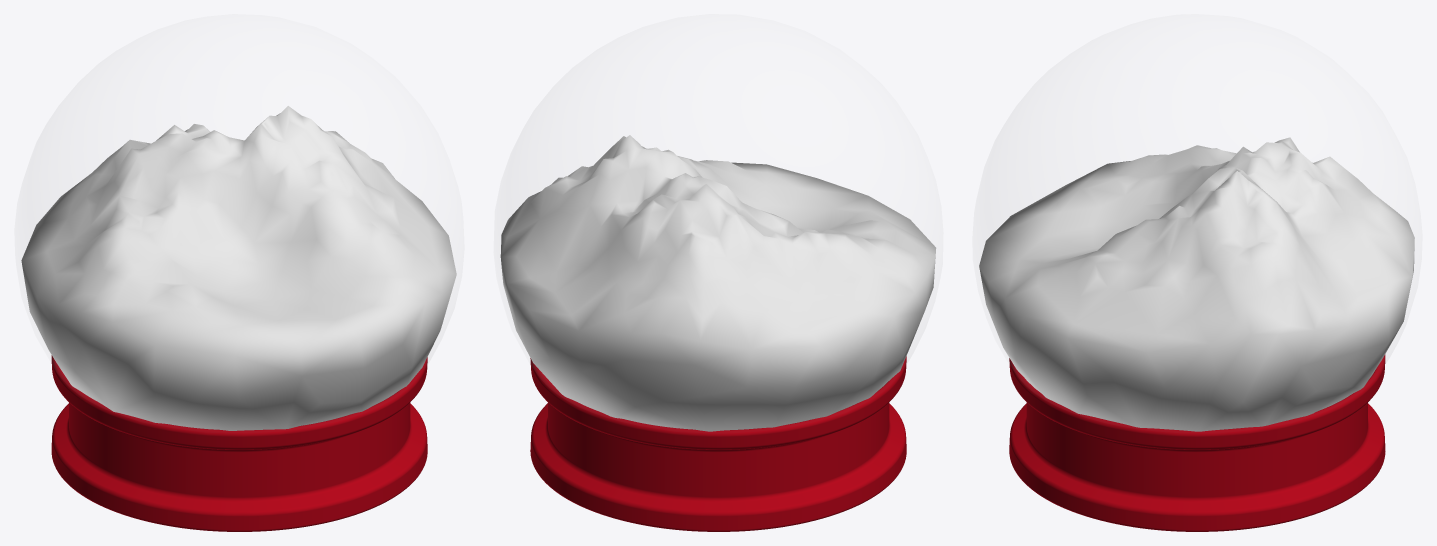
File: Globe1.glb
3 renders of one model, left to right at view 1: azimuth 30°, elevation 25°; view 2: azimuth 150°, elevation 25°; view 3: azimuth 270°, elevation 25°, orthographic.
Visible parts, largest first — view 1: Snowglobe_1; view 2: Snowglobe_1; view 3: Snowglobe_1.
Part boxes in pixels (x1=…): Snowglobe_1: x1=21, y1=105, x2=456, y2=531; Snowglobe_1: x1=500, y1=135, x2=936, y2=531; Snowglobe_1: x1=979, y1=137, x2=1414, y2=531.
Size of the model in its own units: 0.9703 by 0.9989 by 0.9722.
